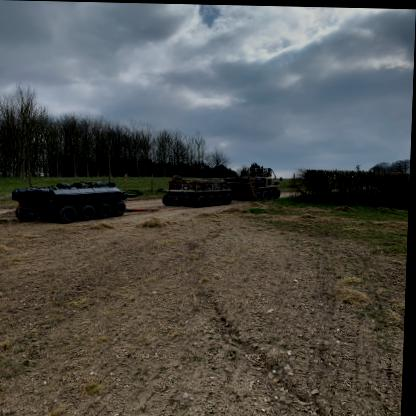UGV: (12, 180, 132, 227), (163, 176, 238, 207), (238, 174, 291, 198)
